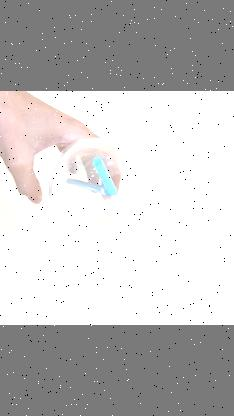Others: (44, 136, 148, 246)
